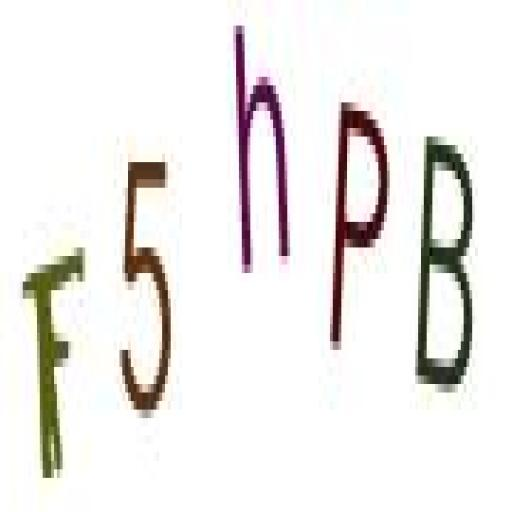5: (113, 136, 178, 443)
B: (415, 115, 487, 413)
F: (20, 225, 92, 499)
P: (328, 83, 394, 378)
h: (226, 8, 299, 289)
